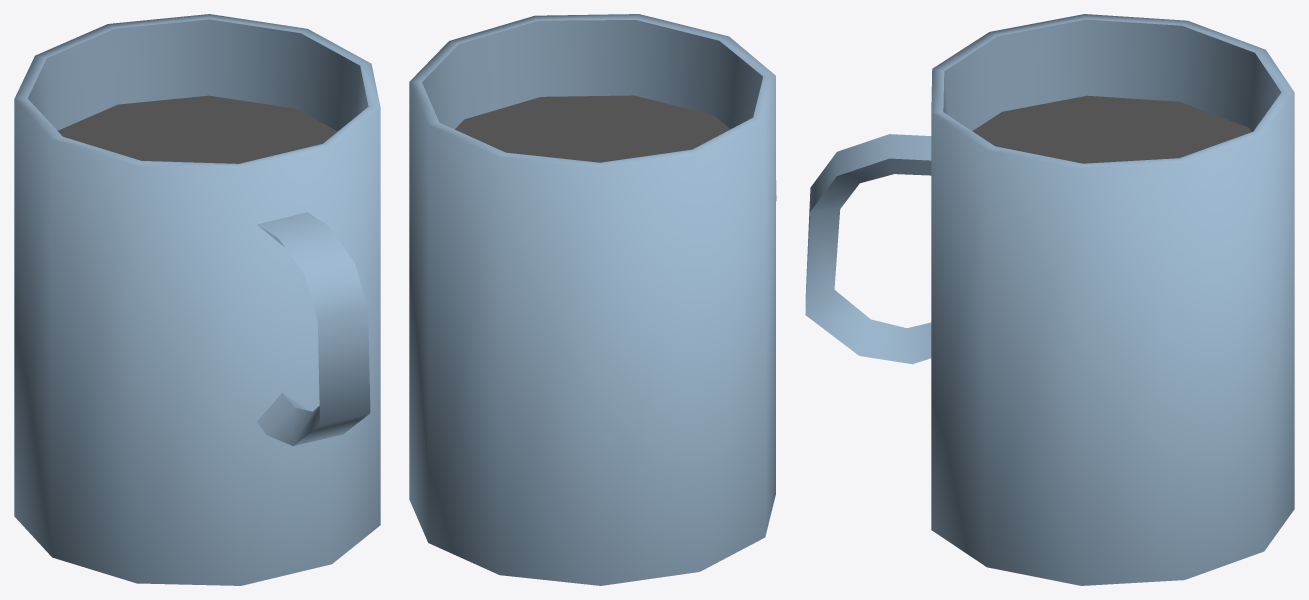
Rendered from Koffie_Mug.fbx.
3 renders of one model, left to right at view 1: azimuth 30°, elevation 25°; view 2: azimuth 150°, elevation 25°; view 3: azimuth 270°, elevation 25°, orthographic.
Parts seen in each view (by area): view 1: Koffie_Mug; view 2: Koffie_Mug; view 3: Koffie_Mug.
Part boxes in pixels (x1,y1,x2,y2): Koffie_Mug: (14,14,380,585); Koffie_Mug: (409,14,776,585); Koffie_Mug: (805,14,1294,585).
Size of the model in its own units: 7.89 by 9.91 by 10.53.
